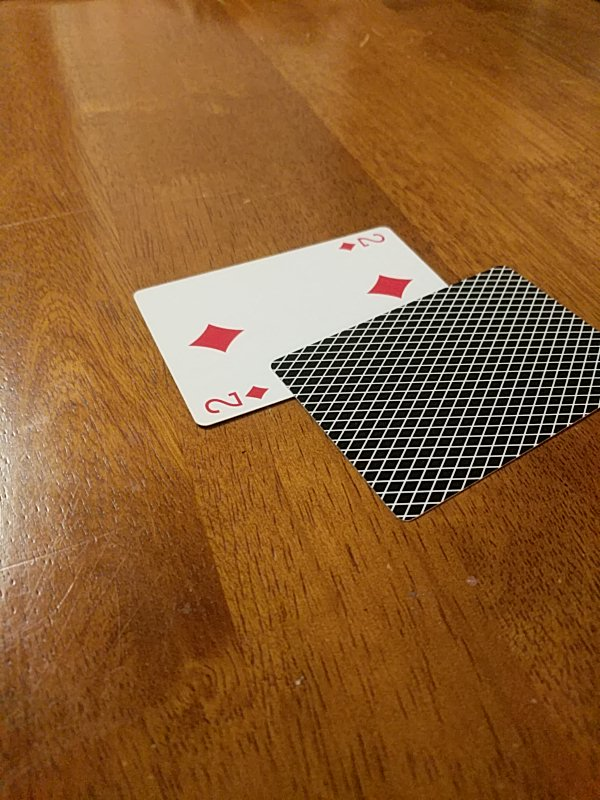Diamonds: (134, 225, 451, 426)
